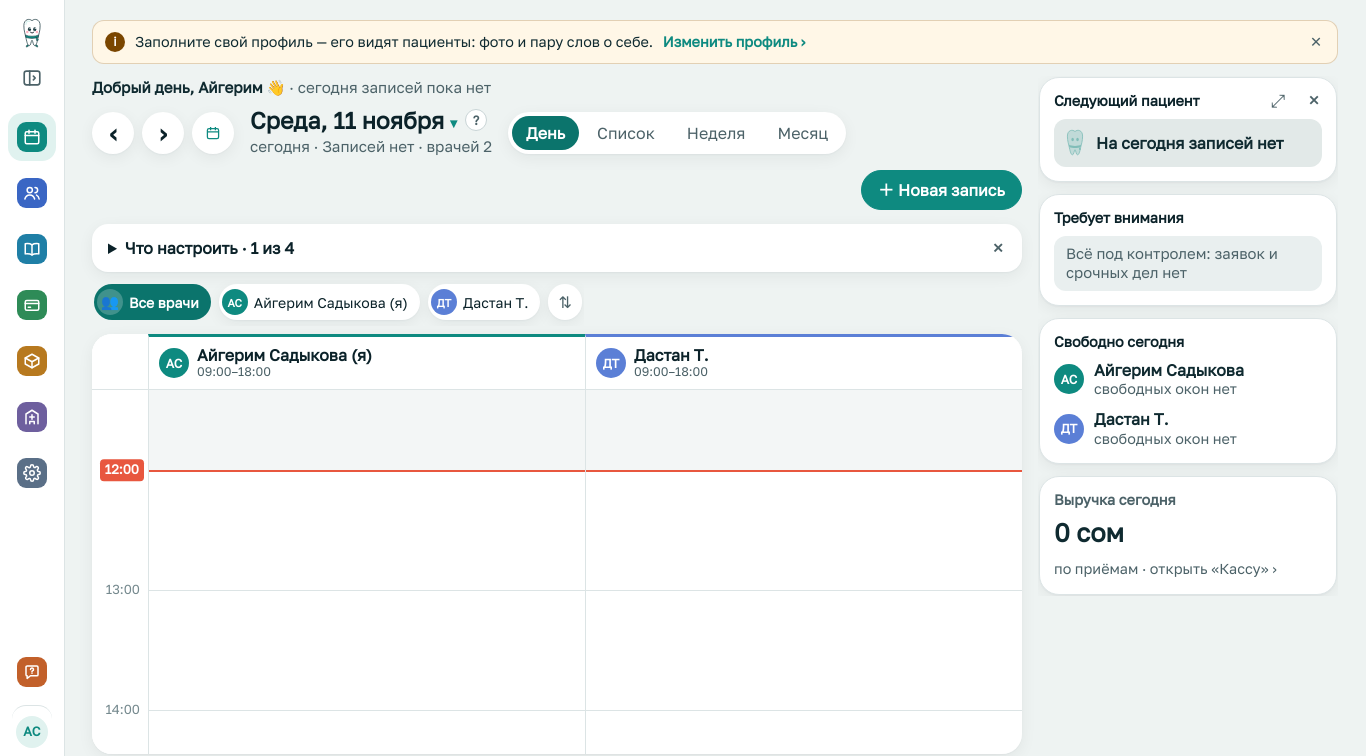
Test: «День»: перетащить на другое время у того же врача — /reschedule, блок сразу на месте, «Вернуть как было»
The image size is (1366, 756).
(page scrolled)
Click the button named "Следующий день" at [163, 132], box x1=142 y1=112 x2=184 y2=154
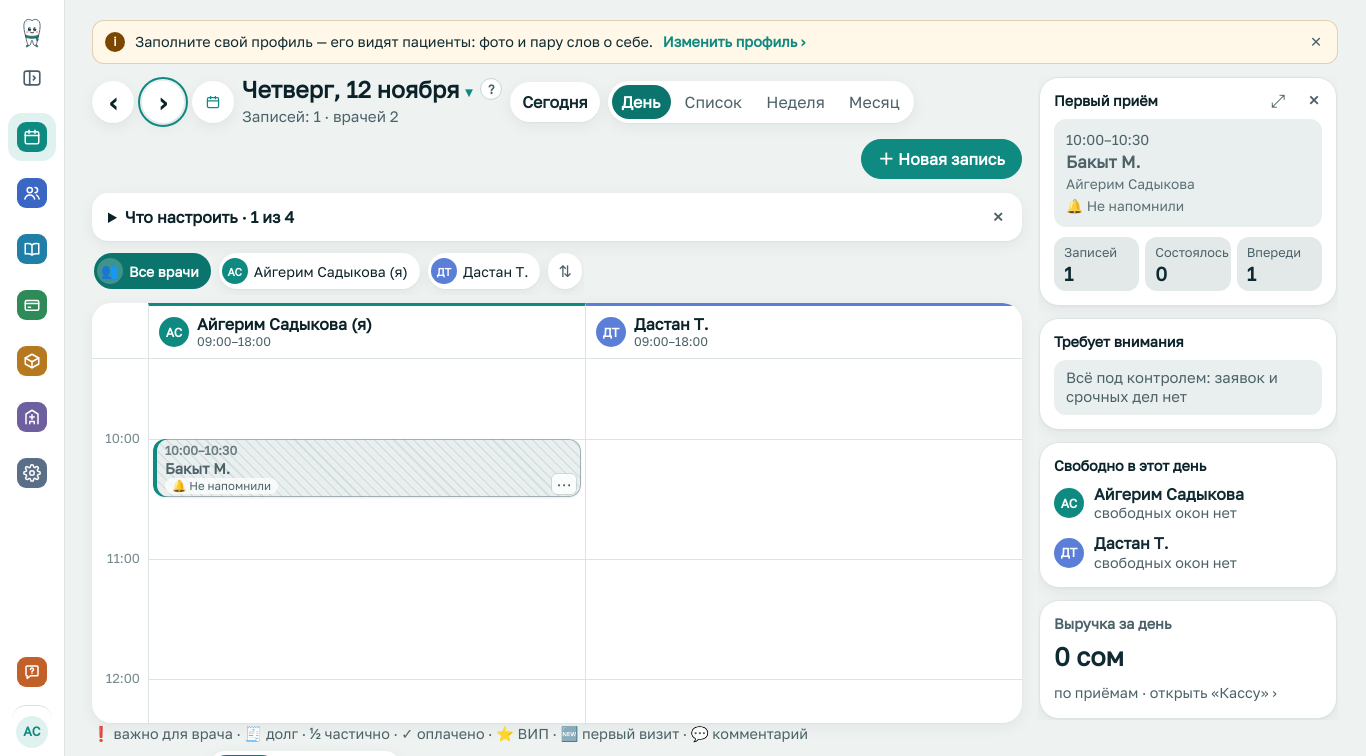
Press the mouse on the button named "10:00–10:30, Бакыт М." at [367, 468], box x1=153 y1=440 x2=581 y2=498
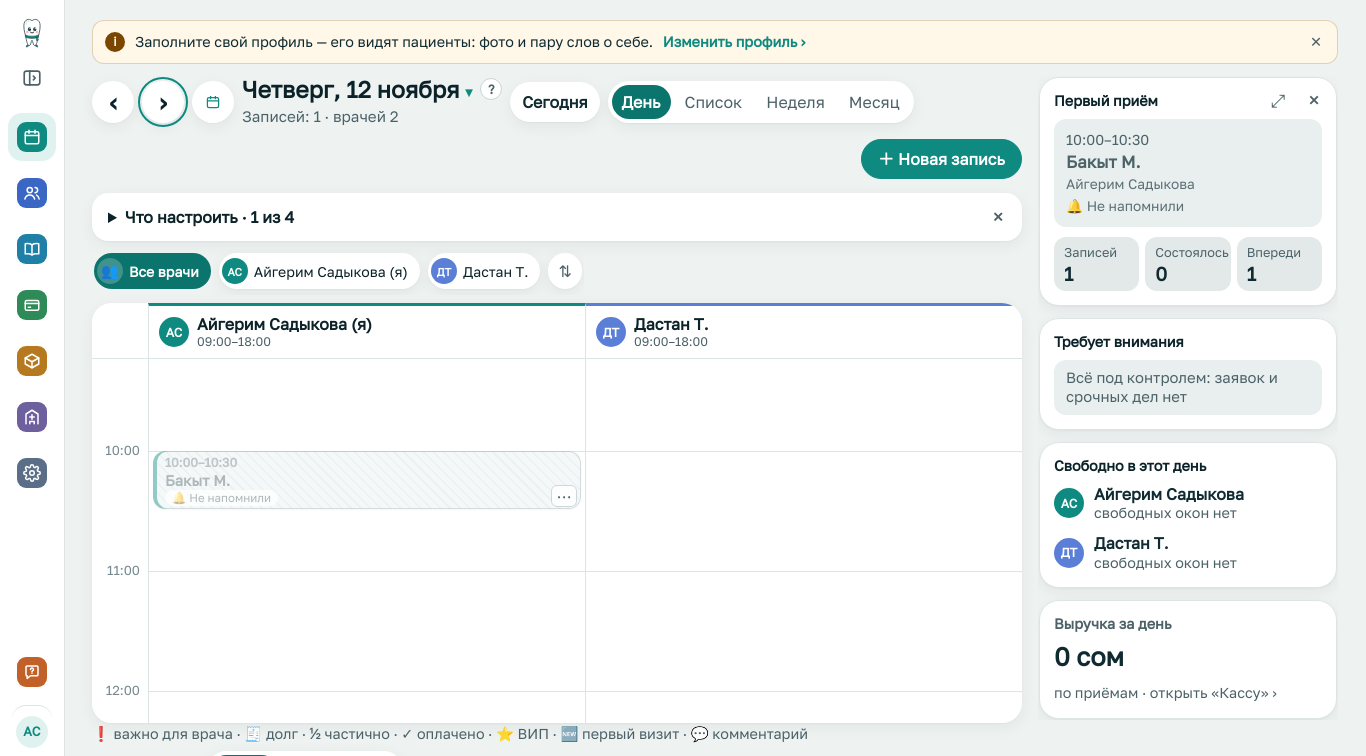
Click the button named "10:00–10:30, Бакыт М." at [367, 480], box x1=153 y1=452 x2=581 y2=510
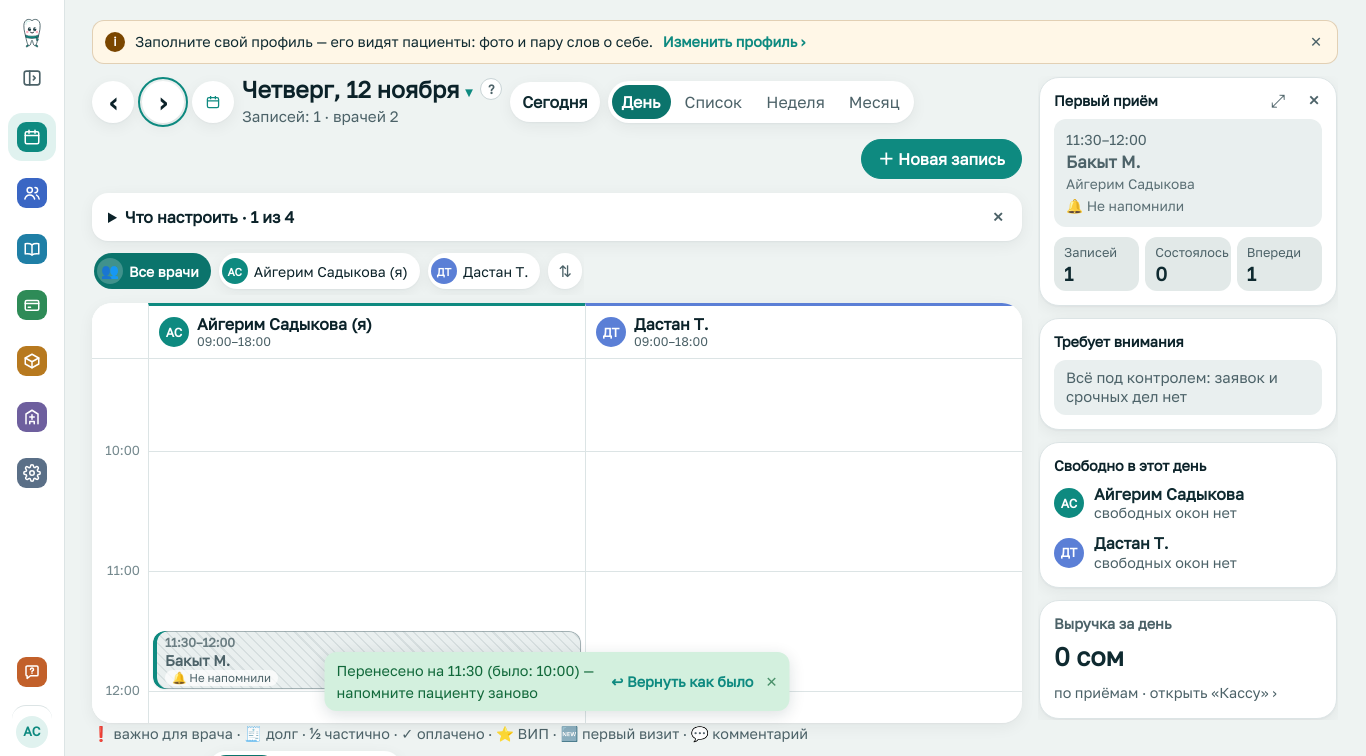
Result: the button named "11:30–12:00, Бакыт М." is shown at x1=153 y1=632 x2=581 y2=690
Click the button "↩ Вернуть как было" at [682, 682], box x1=611 y1=671 x2=754 y2=693
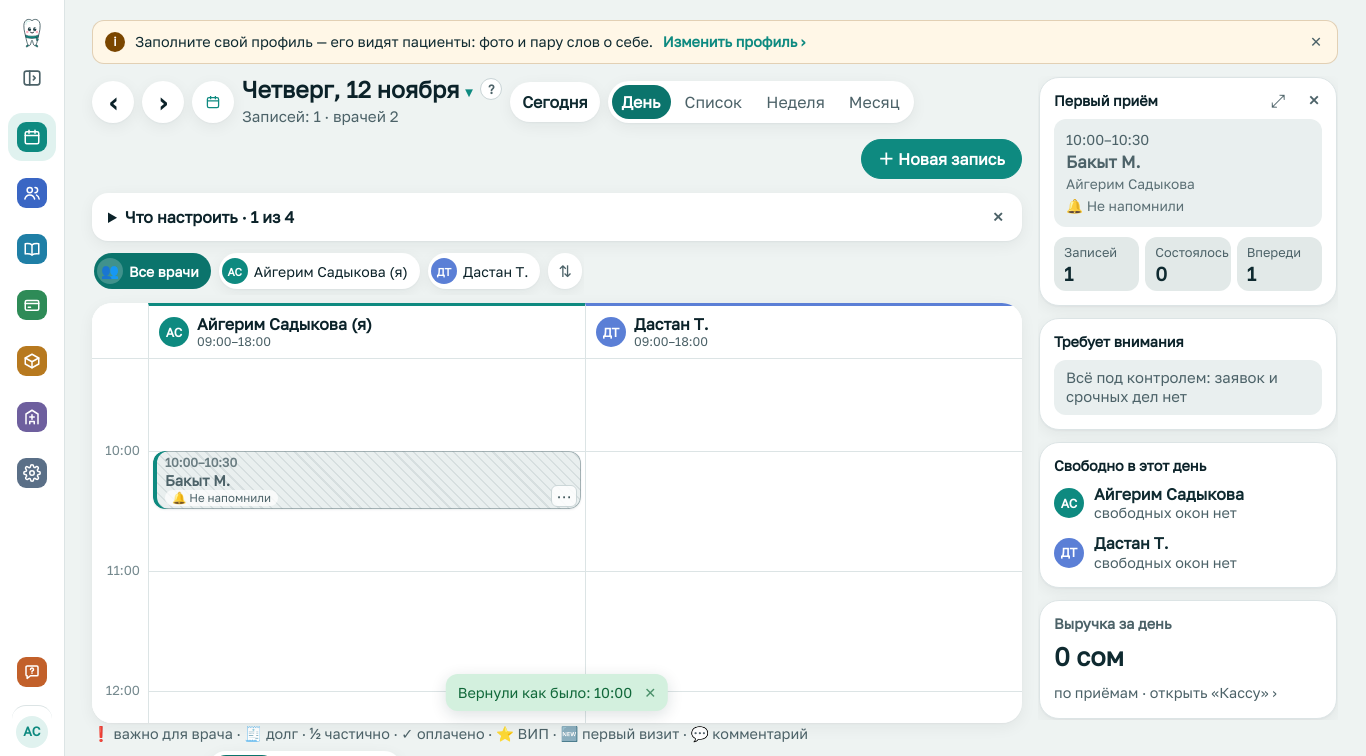
Result: the text "Вернули как было: 10:00 ✕" is shown at x1=446 y1=674 x2=668 y2=712
